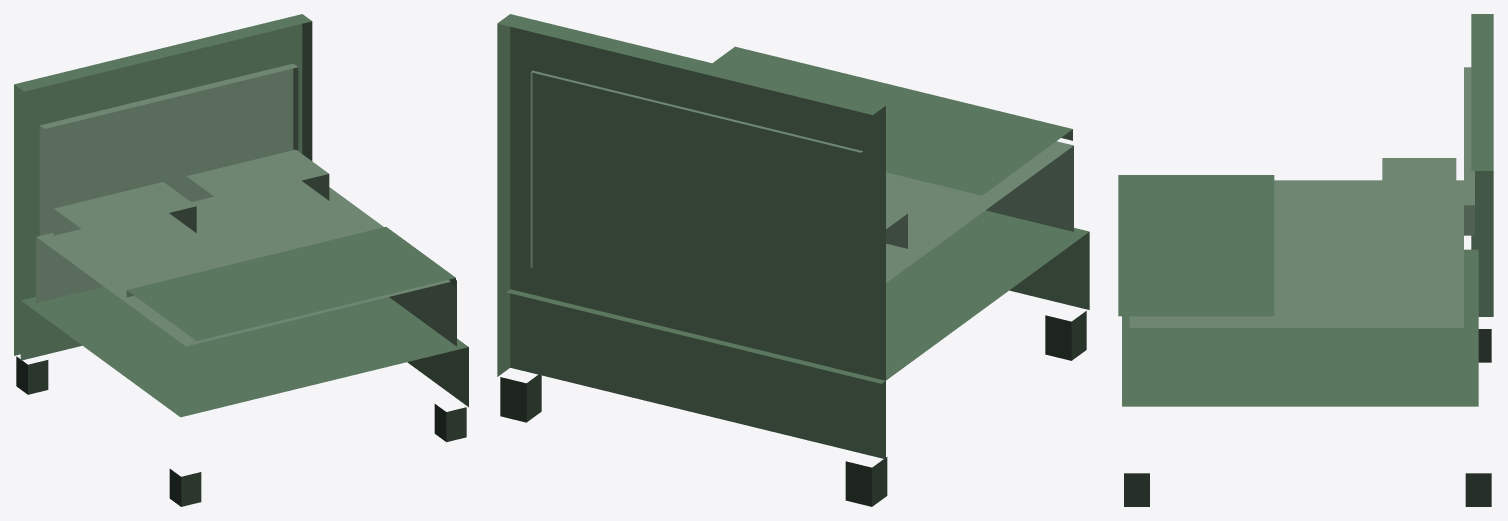
Rendered from Bed-green.glb.
3 renders of one model, left to right at view 1: azimuth 30°, elevation 25°; view 2: azimuth 150°, elevation 25°; view 3: azimuth 270°, elevation 25°, orthographic. The views are drawn at different scales.
Visible parts, largest first — view 1: Bed; view 2: Bed; view 3: Bed.
Boxes of the visible parts, left/top/right/bottom form: Bed: left=14, top=14, right=468, bottom=506; Bed: left=497, top=14, right=1089, bottom=506; Bed: left=1118, top=14, right=1493, bottom=506.
Bounding box in the file's own units: 1 × 1 × 1.01.
